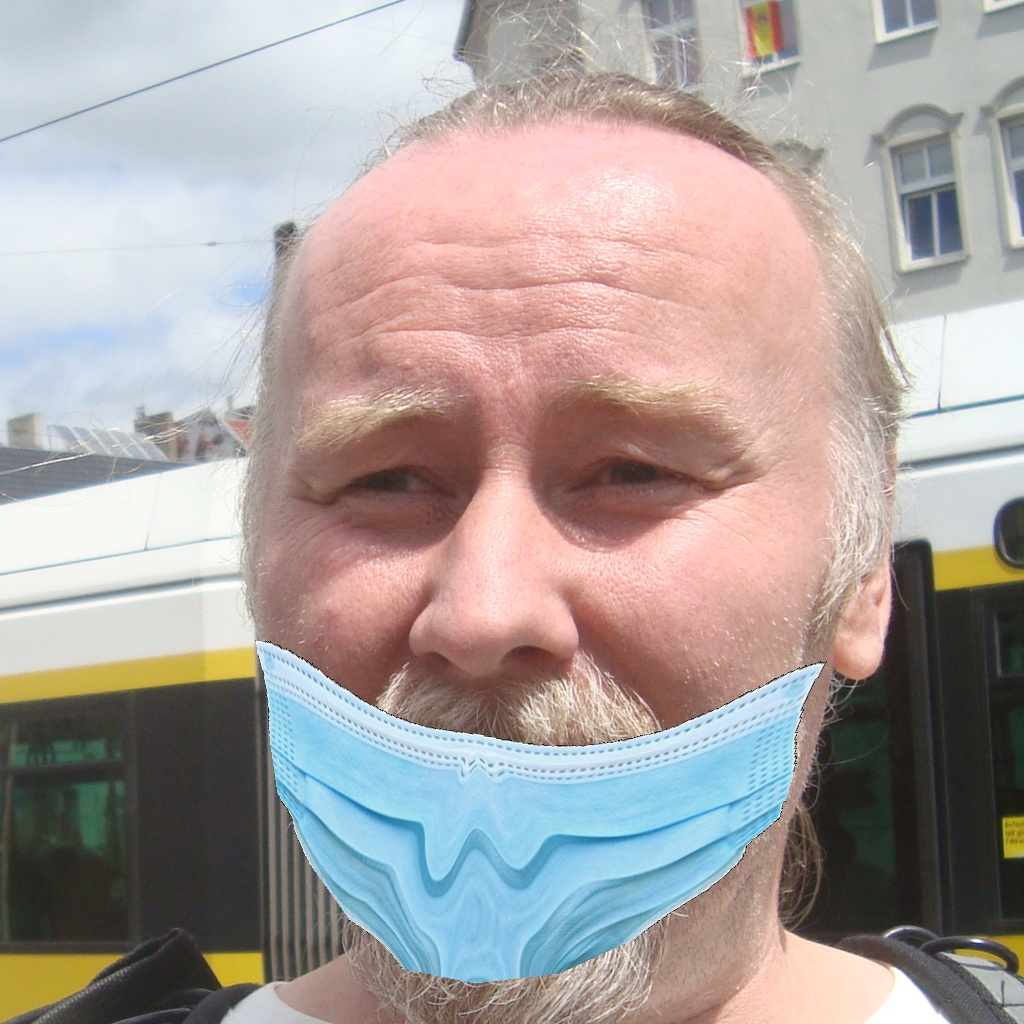mascarilla_mal_puesta: (242, 353, 759, 990)
